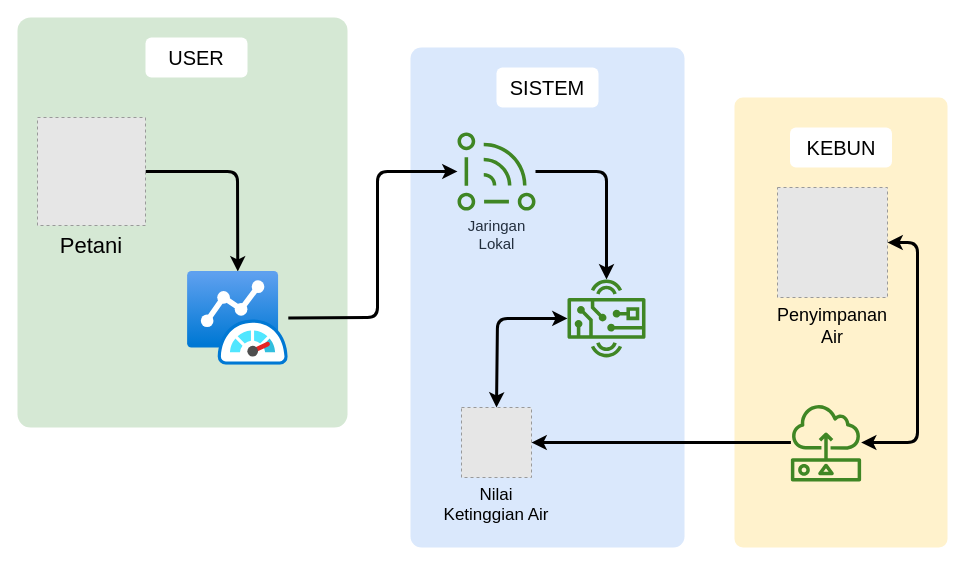
Image size: 964x564. Some labels were removed from this diagram. Grey dashed boxes stand in for pictures. Each missing label, with the centre of its shape:
"Device Monitoring dan Kontrol" belongs at (237,318).
"SBC" belongs at (606,318).
"Sensor Ultra Sonic" belongs at (826,442).
